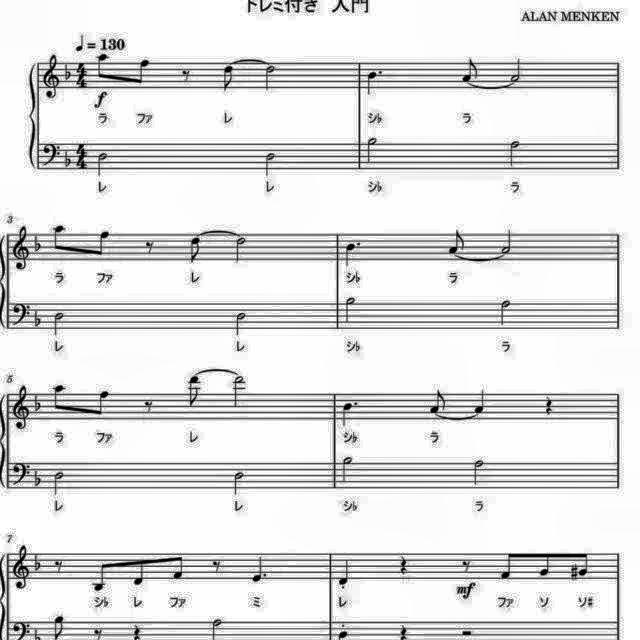Bass-clef: (9, 298, 31, 328), (40, 140, 62, 168), (10, 462, 30, 491)
Bemol: (31, 463, 45, 492), (31, 390, 45, 416), (31, 227, 44, 255), (32, 546, 44, 574), (62, 59, 76, 82), (32, 304, 44, 330), (61, 148, 74, 170)
Eighth-note: (91, 226, 115, 260), (89, 558, 111, 594), (182, 374, 204, 410), (91, 388, 115, 420), (424, 388, 450, 417), (130, 555, 152, 589), (132, 53, 154, 87), (444, 228, 470, 256), (498, 548, 518, 584), (168, 550, 188, 584), (51, 379, 71, 413), (458, 56, 482, 84), (534, 548, 554, 580), (184, 234, 204, 266), (218, 62, 238, 94), (51, 222, 71, 254), (577, 550, 595, 580), (94, 52, 112, 82), (50, 614, 70, 640)
Eighth-rest: (140, 237, 158, 259), (139, 396, 157, 416), (177, 65, 195, 85), (209, 556, 225, 578), (52, 556, 68, 576), (458, 556, 474, 576)
Half-note: (230, 373, 250, 411), (495, 294, 515, 330), (338, 454, 358, 490), (341, 293, 361, 327), (468, 456, 488, 490), (232, 306, 252, 338), (361, 133, 379, 167), (505, 136, 523, 170), (230, 469, 250, 499), (262, 149, 282, 179), (49, 308, 67, 339), (233, 235, 251, 265), (49, 469, 67, 499), (262, 62, 280, 92), (498, 224, 516, 253), (506, 56, 524, 84), (96, 149, 112, 179)
Half-rest: (457, 626, 477, 640)
Quarter-dot: (340, 238, 366, 270), (248, 552, 272, 586), (363, 68, 387, 100), (338, 400, 362, 430)
Quarter-note: (336, 556, 356, 588), (469, 387, 488, 415)
Quarter-rest: (394, 550, 411, 578), (540, 393, 556, 419)
Treble-clef: (10, 224, 34, 274), (10, 384, 34, 434), (42, 51, 66, 100), (9, 542, 31, 592)
